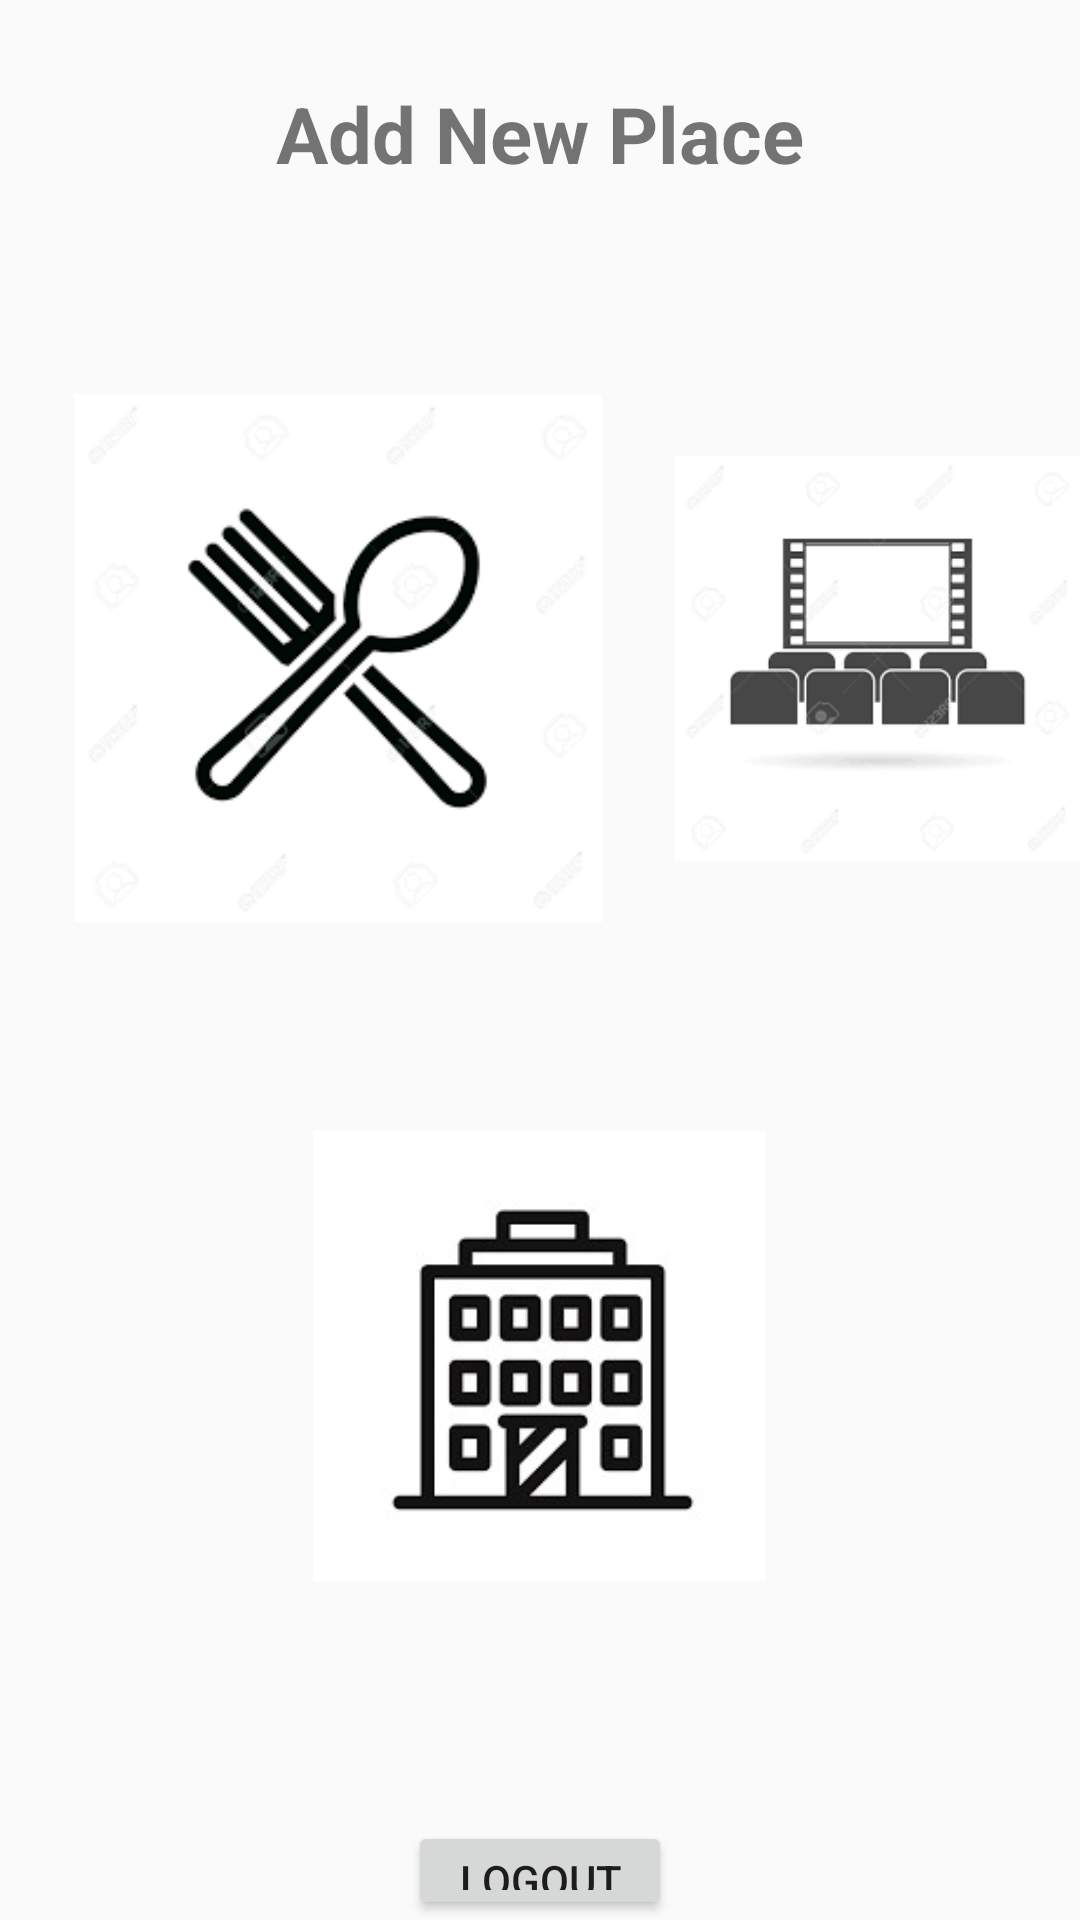

Screen size 1080px x 1920px. Icon name, then its box in pixels as (x1, y1, x2, y2):
hotel: (392, 1209, 694, 1511)
movie hall: (730, 538, 1025, 764)
restaurant: (188, 508, 487, 809)
